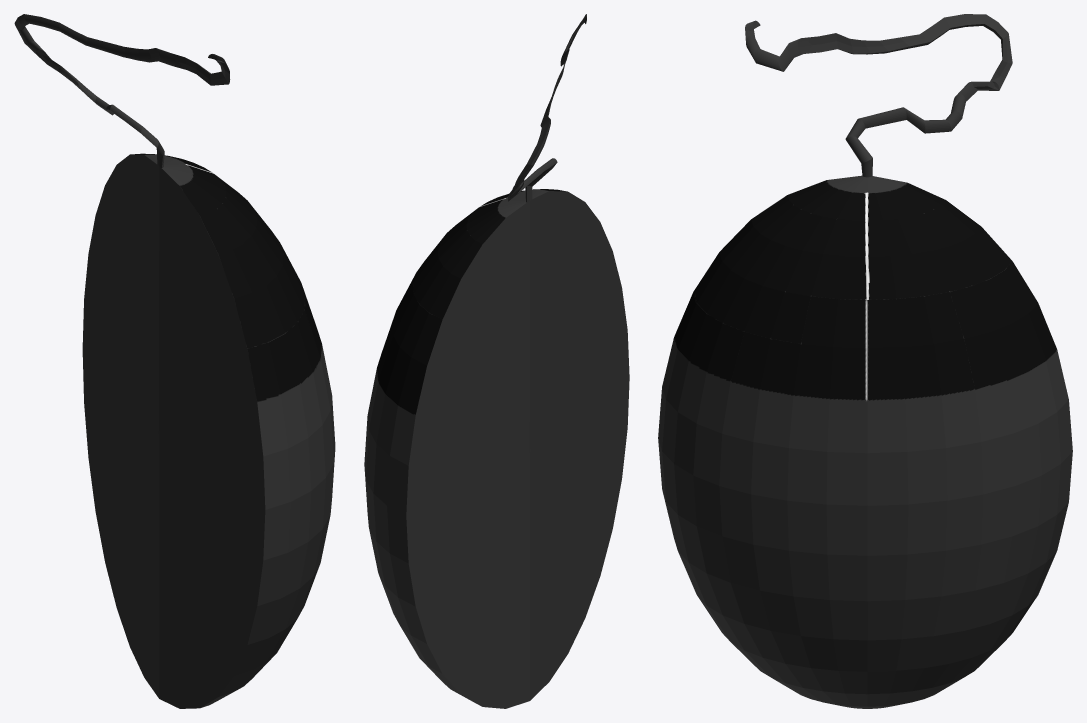
File: mouse.fbx
3 views of the same model, side by side, from view 1: azimuth 30°, elevation 25°; view 2: azimuth 150°, elevation 25°; view 3: azimuth 270°, elevation 25° (orthographic). The views are drawn at different scales.
Visible parts, largest first — view 1: Sphere; view 2: Sphere; view 3: Sphere.
Part boxes in pixels (box(x1,y1,x2,y2)): Sphere: box(14, 14, 335, 708); Sphere: box(364, 14, 629, 708); Sphere: box(658, 14, 1072, 708).
Size of the model in its own units: 153 by 466 by 258.
